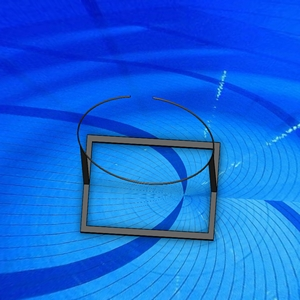circle: (76, 94, 222, 243)
